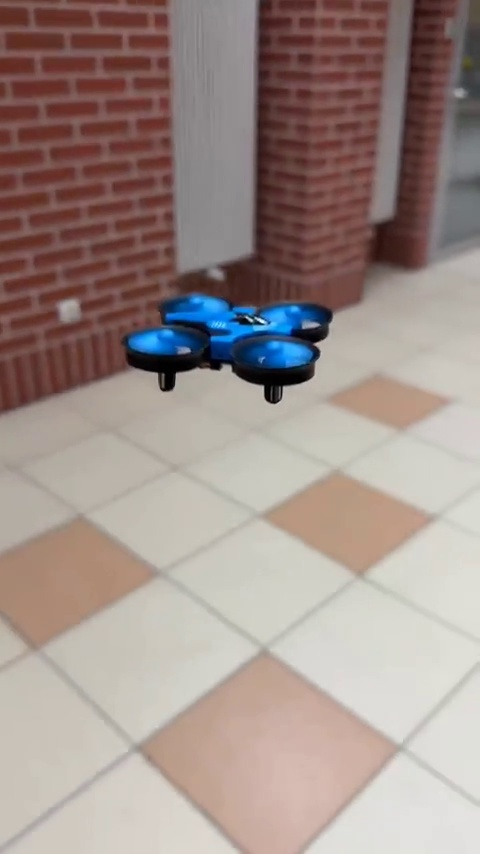drone: (122, 295, 337, 402)
